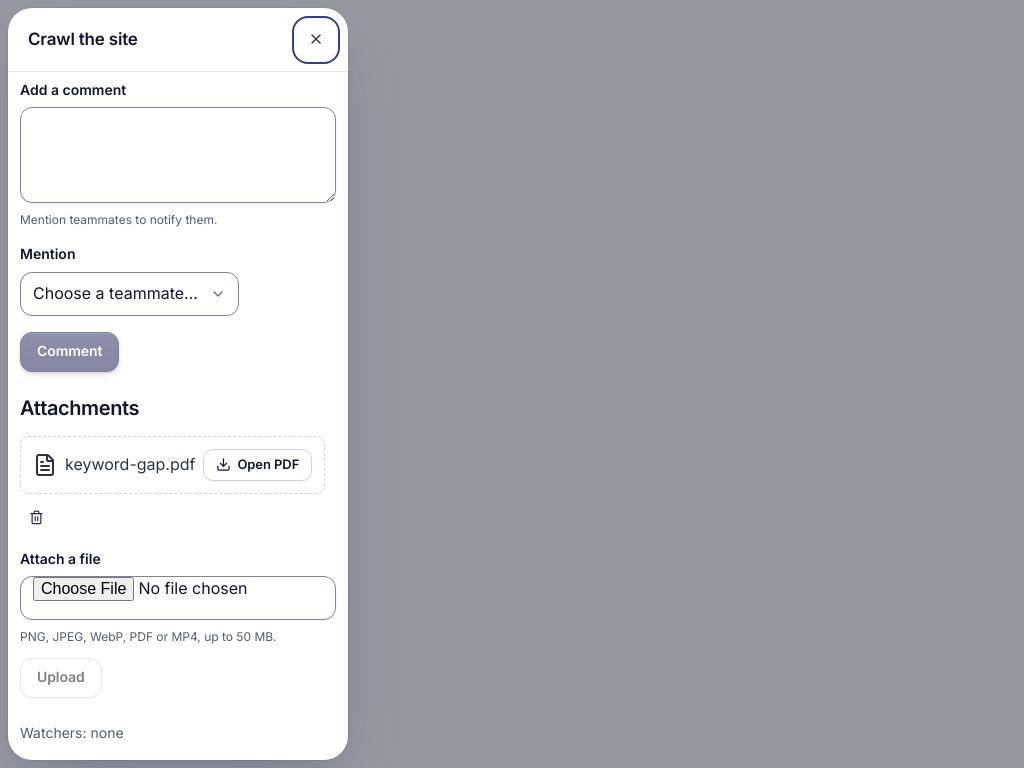
Test: Removing task attachments › removes an attachment after confirmation
(page scrolled)
Click the button named "Remove attachment keyword-gap.pdf". click: coordinates (36, 518)
box: [20,502,52,534]
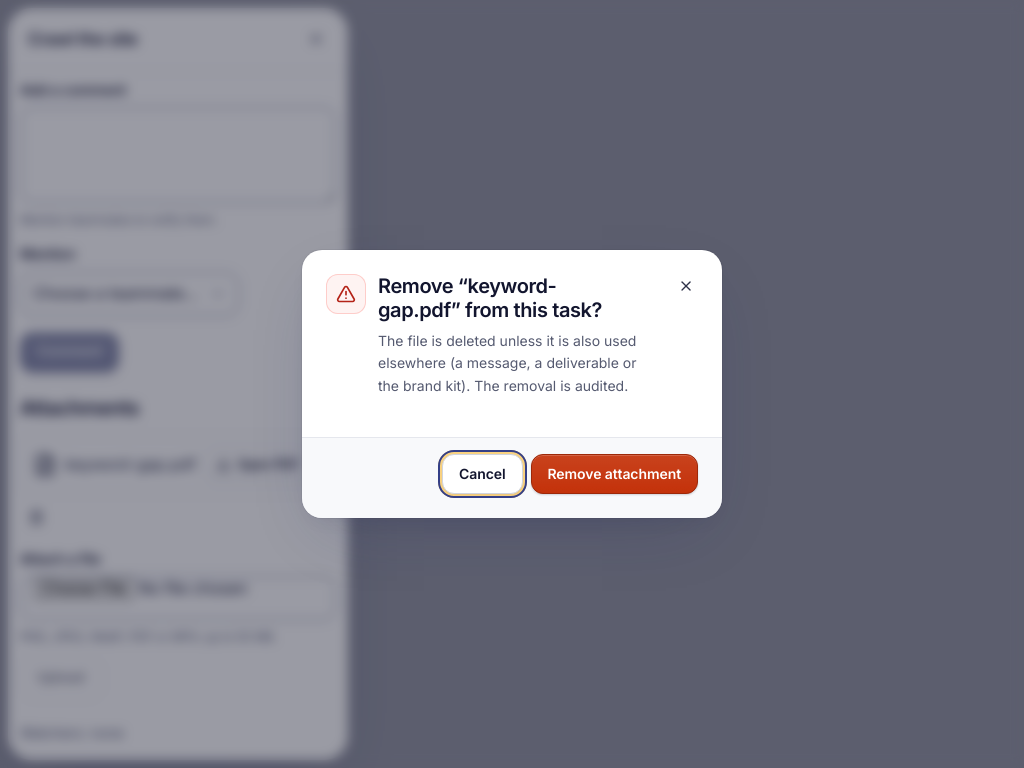
Click the button "Remove attachment". click: coordinates (614, 474)
box: [530,454,698,494]
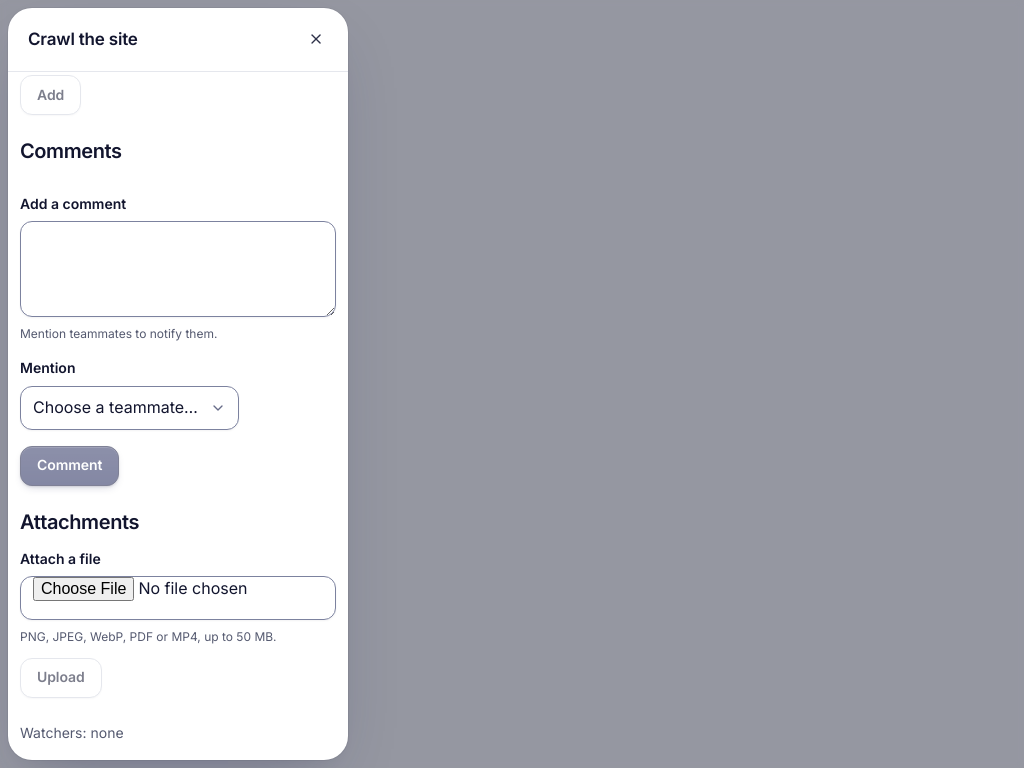
Result: the text "keyword-gap.pdf" is gone
